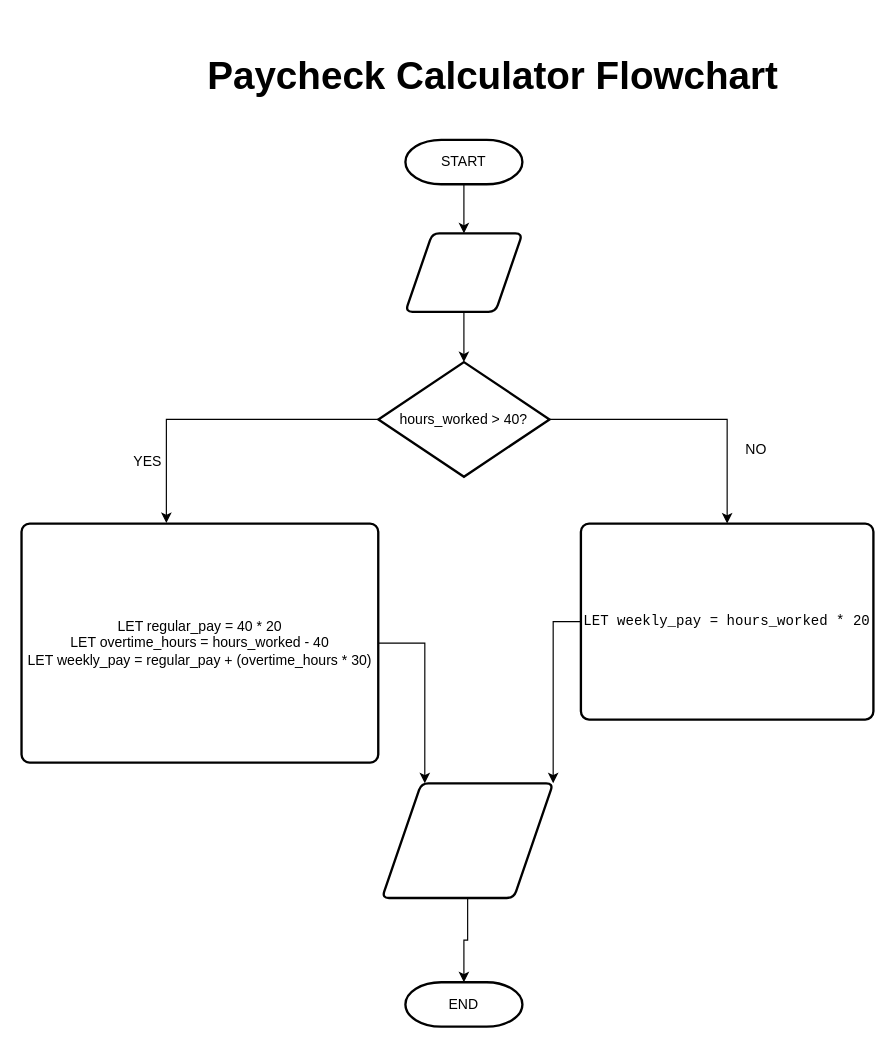
Image size: 895x1047. Some labels were removed from this diagram. Each missing label, with the centre of its shape:
GET _hours worked: [463,272]
PUT weekly_pay: [467,840]
